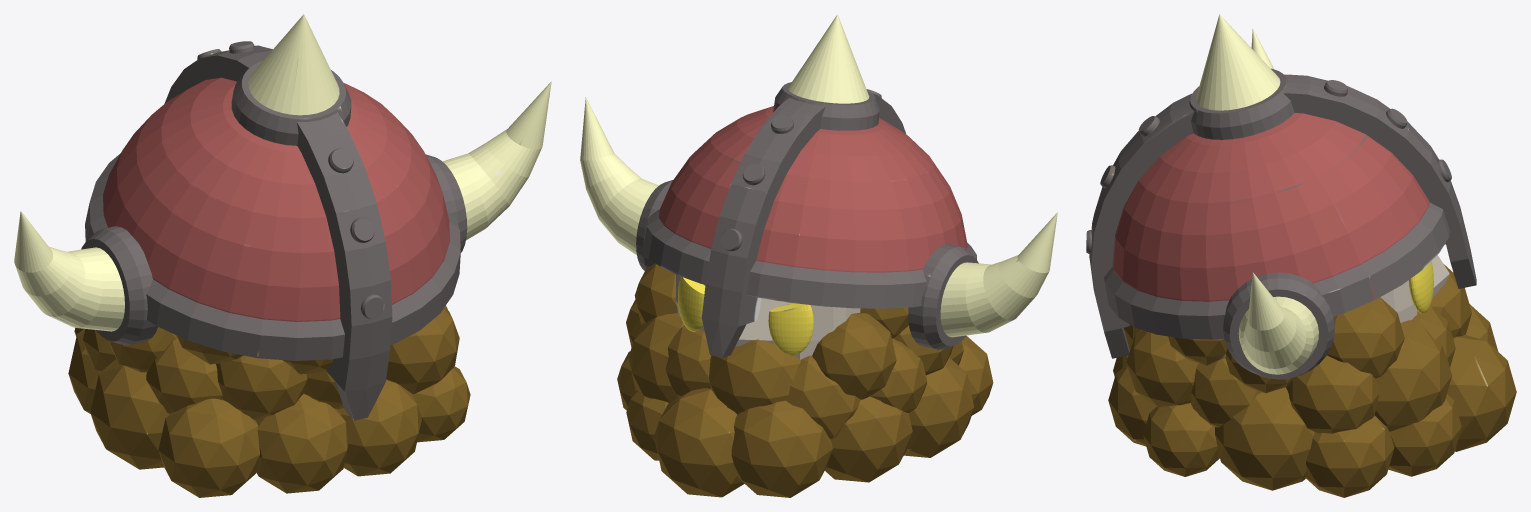
File: player.obj
3 renders of one model, left to right at view 1: azimuth 30°, elevation 25°; view 2: azimuth 150°, elevation 25°; view 3: azimuth 270°, elevation 25°, orthographic. The views are drawn at different scales.
Visible parts, largest first — view 1: 球體.023; view 2: 球體.023; view 3: 球體.023.
Part boxes in pixels (<box>): 球體.023: <box>14,14,551,497</box>; 球體.023: <box>580,14,1057,497</box>; 球體.023: <box>1086,14,1516,497</box>.
Bounding box in the file's own units: 5.58 × 4.53 × 4.17.
1 material, 1 textured.
